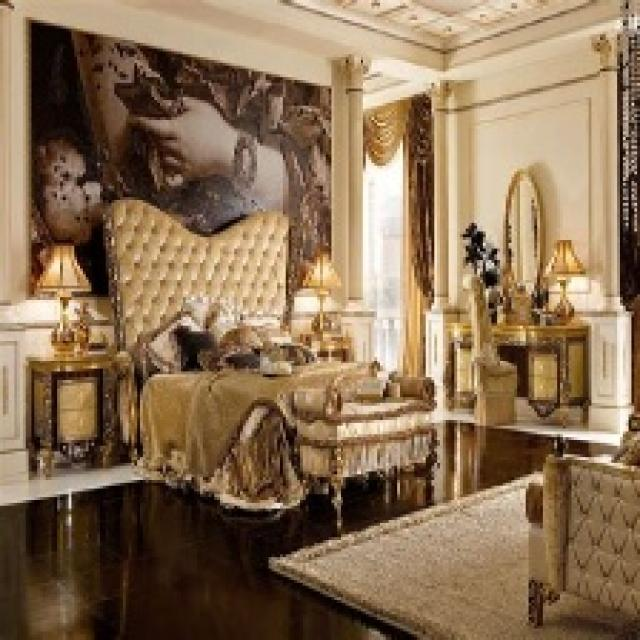Bed: (100, 194, 437, 526)
